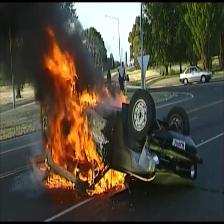fire: (43, 26, 128, 195)
